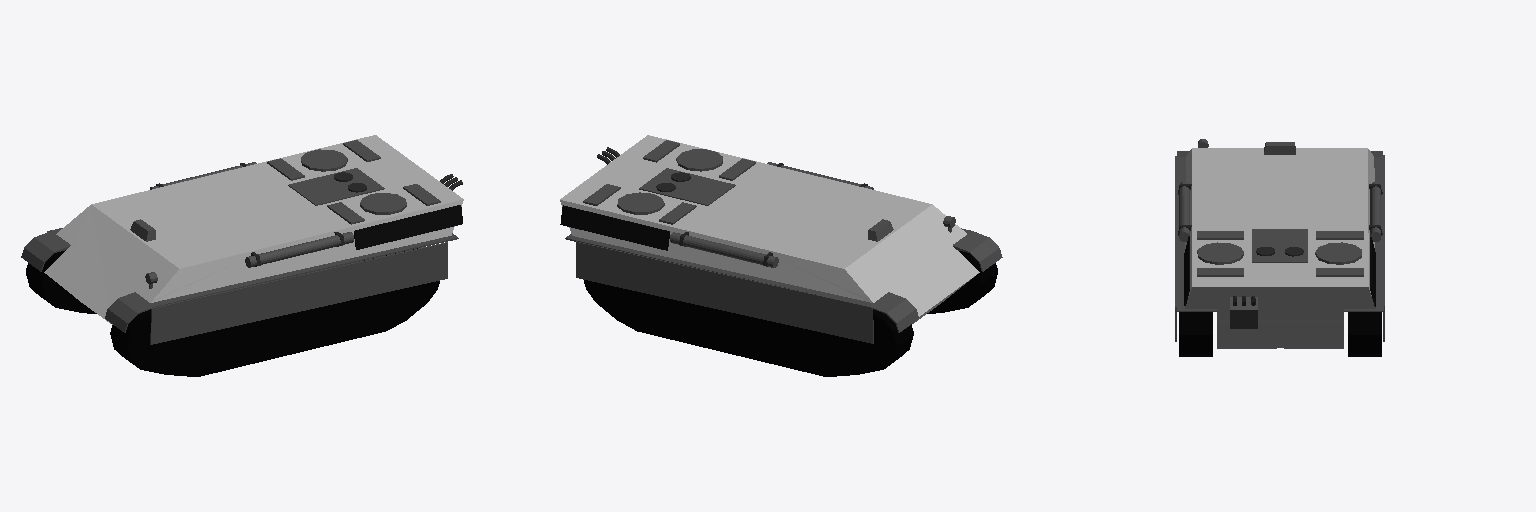
Rendered from tankbody04.obj.
3 views of the same model, side by side, from view 1: azimuth 30°, elevation 25°; view 2: azimuth 150°, elevation 25°; view 3: azimuth 270°, elevation 25° (orthographic).
Visible parts, largest first — view 1: Box001, Box004, Box006, Box003, Box012, Box019, Box005, Cylinder002, Box002, Cylinder005, Cylinder006; view 2: Box001, Box005, Box007, Box002, Box013, Box019, Box004, Cylinder001, Box003, Cylinder006, Cylinder005; view 3: Box001, Box019, Box004, Box005, Box002, Box003, Cylinder006, Cylinder005, Box020, Cylinder002, Cylinder001.
Boxes of the visible parts, <box> form: Box001: <box>44,135,463,324</box>; Box004: <box>110,248,439,376</box>; Box006: <box>150,242,447,344</box>; Box003: <box>105,233,458,332</box>; Box012: <box>354,205,462,249</box>; Box019: <box>288,168,384,205</box>; Box005: <box>26,250,96,313</box>; Cylinder002: <box>245,232,353,267</box>; Box002: <box>21,229,70,271</box>; Cylinder005: <box>360,193,406,214</box>; Cylinder006: <box>301,149,347,171</box>; Box001: <box>560,135,979,323</box>; Box005: <box>584,280,913,376</box>; Box007: <box>576,241,873,343</box>; Box002: <box>565,234,918,332</box>; Box013: <box>560,205,669,250</box>; Box019: <box>639,168,735,205</box>; Box004: <box>927,251,997,313</box>; Cylinder001: <box>670,232,778,267</box>; Box003: <box>953,228,1002,271</box>; Cylinder006: <box>617,192,664,214</box>; Cylinder005: <box>676,149,722,171</box>; Box001: <box>1185,148,1375,348</box>; Box019: <box>1252,229,1307,262</box>; Box004: <box>1179,312,1212,356</box>; Box005: <box>1348,312,1381,356</box>; Box002: <box>1344,151,1383,311</box>; Box003: <box>1177,151,1216,311</box>; Cylinder006: <box>1315,242,1361,264</box>; Cylinder005: <box>1197,242,1243,264</box>; Box020: <box>1230,297,1257,328</box>; Cylinder002: <box>1179,182,1189,241</box>; Cylinder001: <box>1370,182,1380,241</box>.
Bounding box in the file's own units: 106 × 32.03 × 52.62.